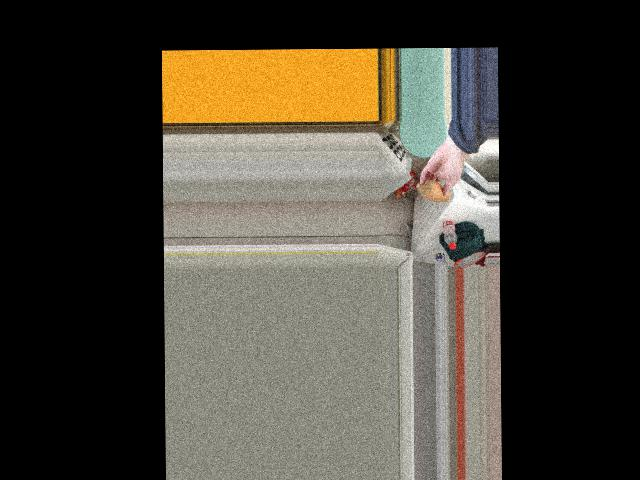sweet_potato: (420, 176, 449, 202)
